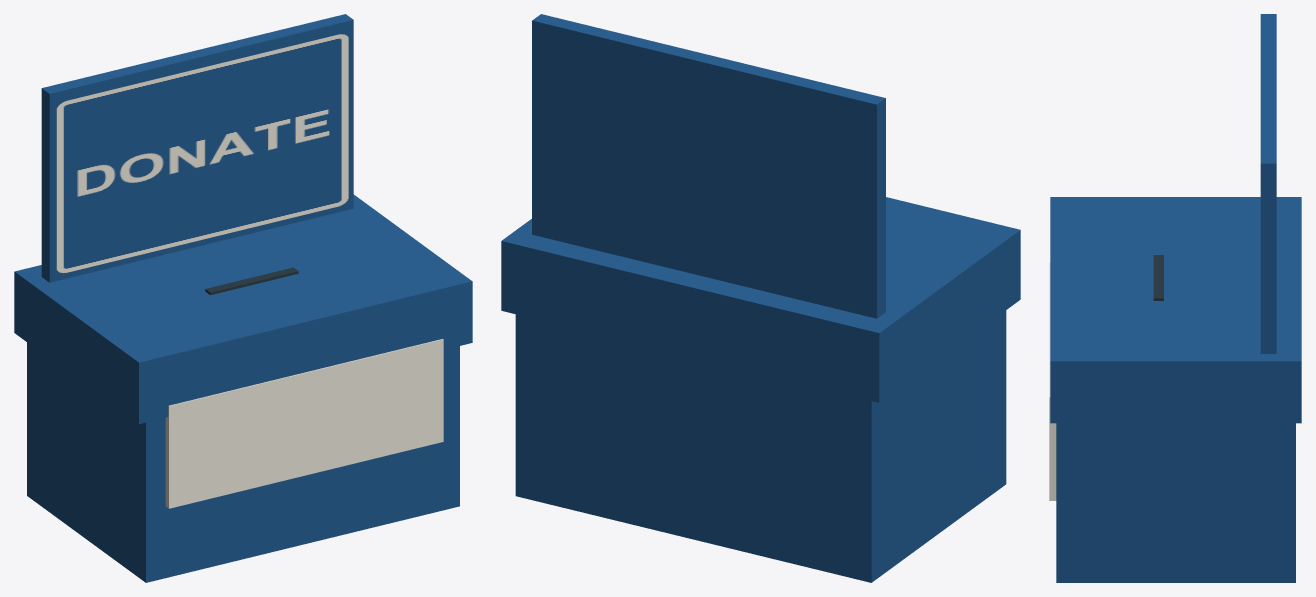
The model's file is scendance-plan-charity.glb.
3 views of the same model, side by side, from view 1: azimuth 30°, elevation 25°; view 2: azimuth 150°, elevation 25°; view 3: azimuth 270°, elevation 25° (orthographic). The views are drawn at different scales.
Bounding box in the file's own units: 0.34 × 0.403 × 0.221.
4 materials, 1 textured.
